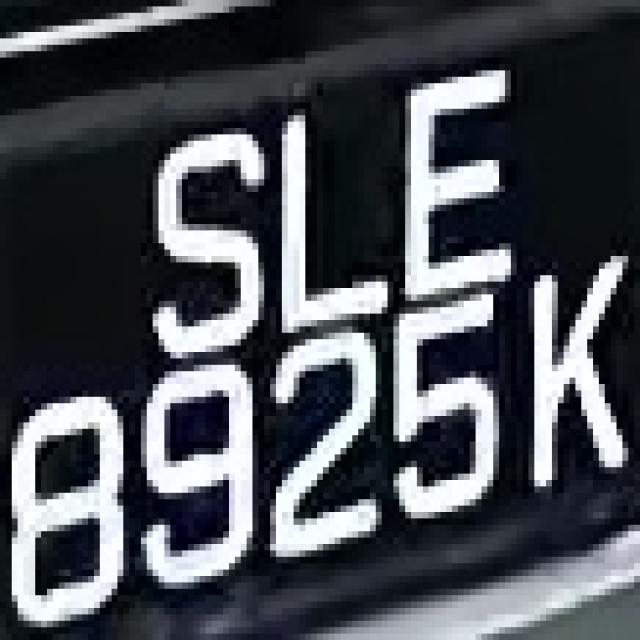2: (258, 314, 405, 576)
5: (364, 282, 511, 524)
8: (18, 378, 141, 627)
9: (117, 346, 276, 602)
E: (399, 64, 517, 307)
K: (511, 237, 634, 499)
L: (264, 90, 394, 332)
S: (129, 115, 276, 371)
